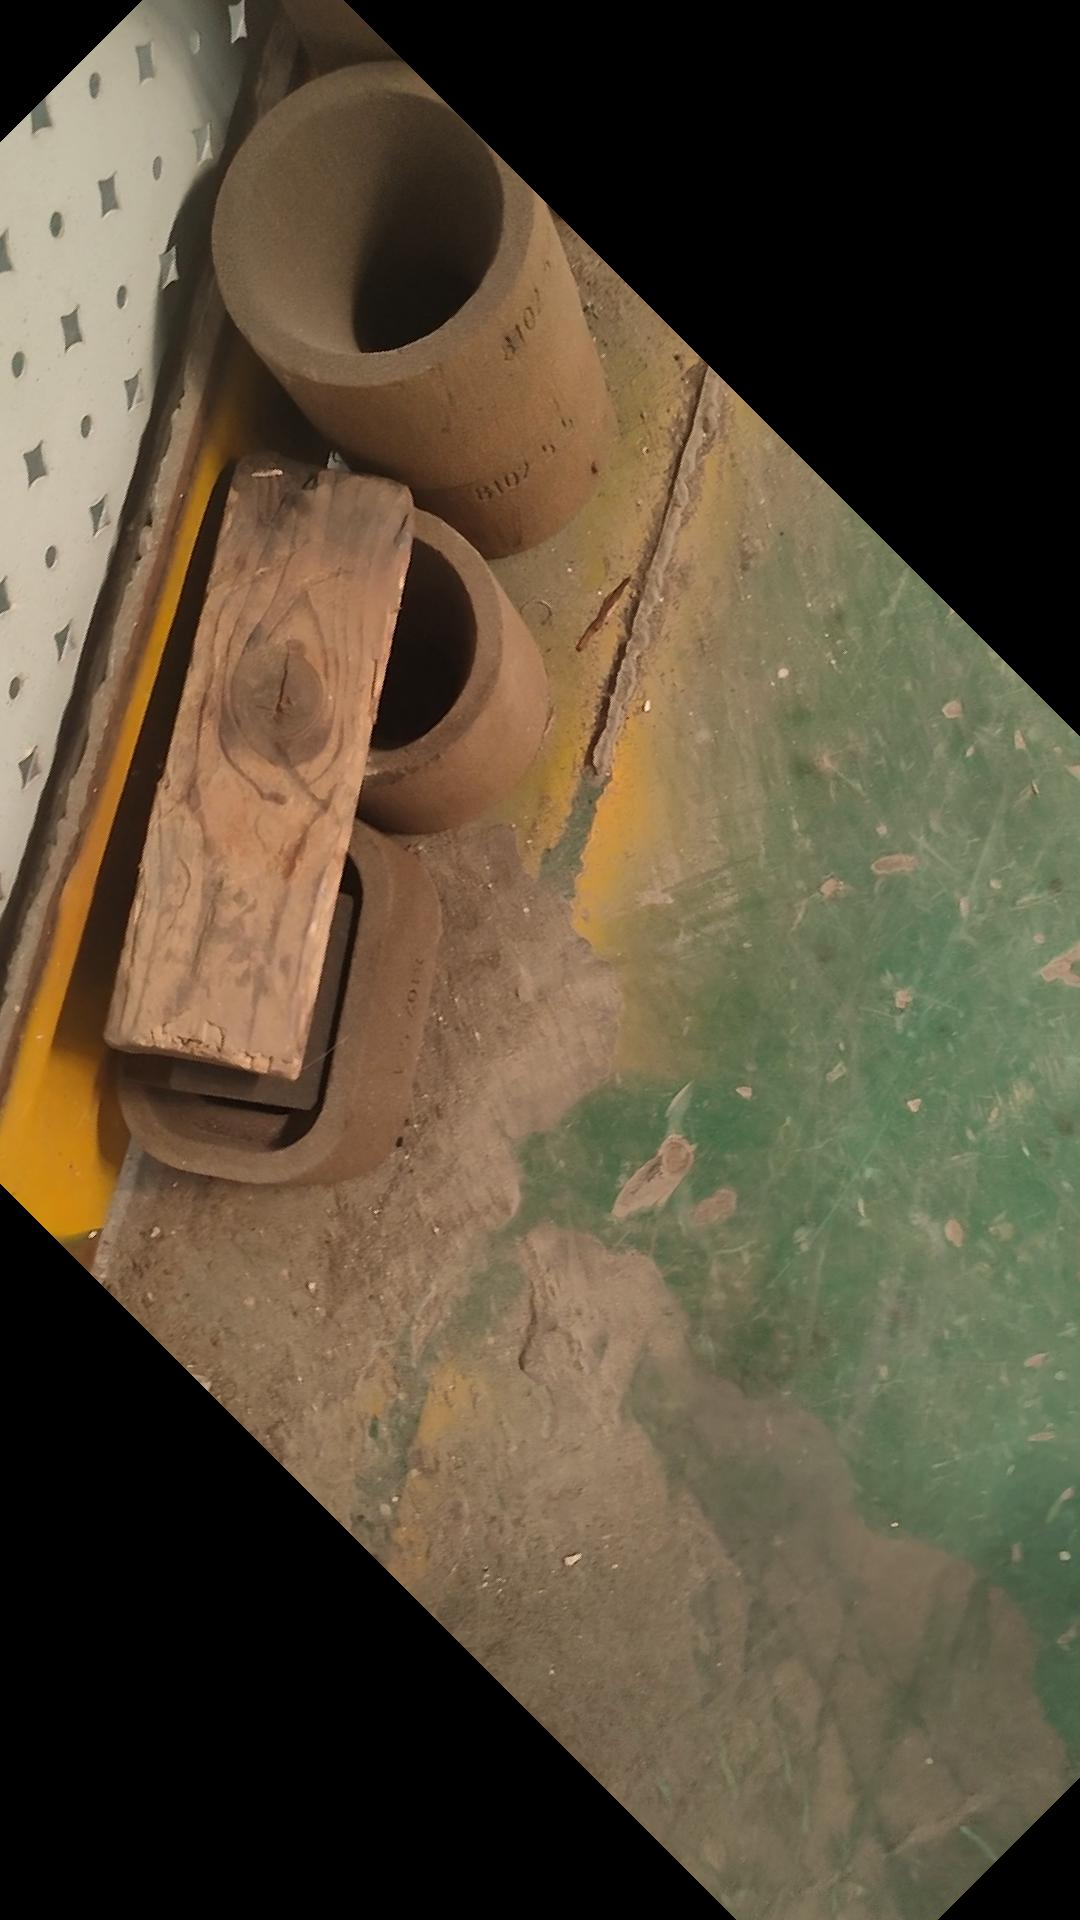pouring hole: (244, 94, 502, 355), (257, 531, 477, 756)
